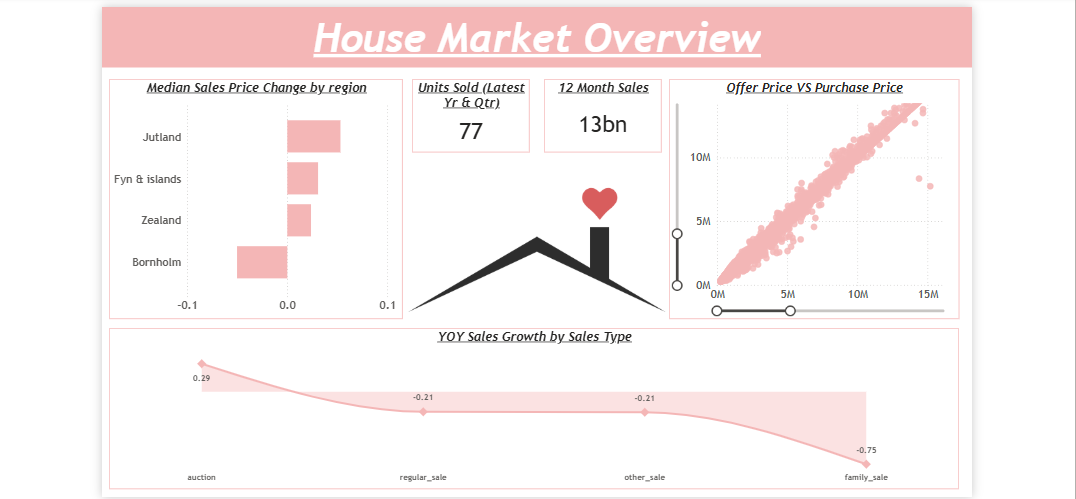

This screenshot's page, from the dashboard's own definition file:
{"tool":"powerbi","page":{"name":"House Market Overview","canvas":[1280,720],"ordinal":0},"visuals":[{"type":"shape","box":[0,0,1280,89],"z":0},{"type":"lineChart","title":"YOY Sales Growth by Sales Type","fields":{"Y":["Housing.YOY Sales Growth"],"Category":["Housing.sales_type"]},"box":[10.3,472.1,1250,236.8],"z":1000},{"type":"scatterChart","title":"Offer Price VS Purchase Price","fields":{"X":["Housing.Offer Price"],"Y":["Housing.purchase_price"]},"box":[833.2,105.8,426.7,352.8],"z":2000},{"type":"barChart","fields":{"Y":["Housing.Median Sales Price Change"],"Category":["Housing.region"]},"box":[10.3,105.9,432.4,352.9],"z":3000},{"type":"card","title":"Units Sold (Latest Yr & Qtr)","fields":{"Values":["Housing.Units Sold in Latest Year & Quarter"]},"box":[456.4,106.3,172.9,107.7],"z":4000},{"type":"card","title":"12 Month Sales","fields":{"Values":["Housing.Last 12 Month Sales"]},"box":[650.6,106.3,172.9,107.7],"z":5000}]}

Visuals, with their boxes on the page's 1280x720 design canvas (x1, y1, x2, y2). These are canvas units, not pixel positions in the 1076x499 screenshot, which may show the page scaled, cropped or inside an application window:
shape: 0,0,1280,89
"YOY Sales Growth by Sales Type" lineChart: 10,472,1260,709
"Offer Price VS Purchase Price" scatterChart: 833,106,1260,459
barChart - Housing.Median Sales Price Change x Housing.region: 10,106,443,459
"Units Sold (Latest Yr & Qtr)" card: 456,106,629,214
"12 Month Sales" card: 651,106,824,214
